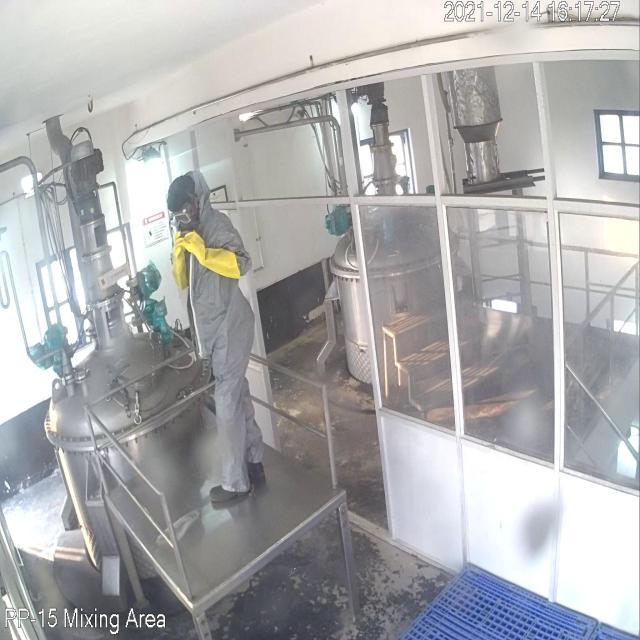Gloves: (172, 230, 241, 290)
No Hardhat: (168, 175, 195, 212)
Overall Suit: (185, 250, 264, 492), (189, 170, 251, 276)
Safety Boots: (209, 485, 249, 503)
